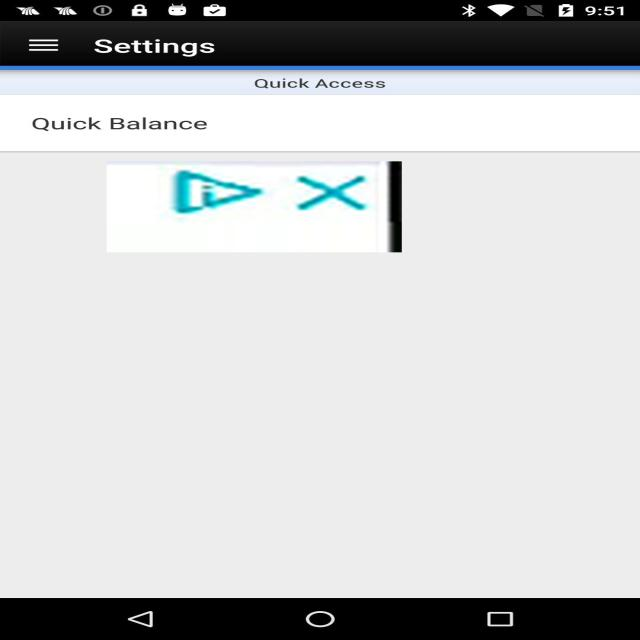sneaking: (106, 162, 402, 252)
